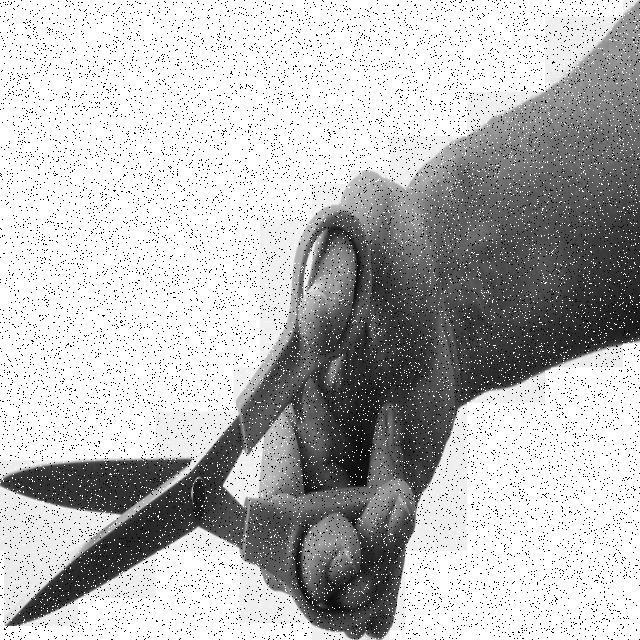scissors: (0, 200, 412, 636)
